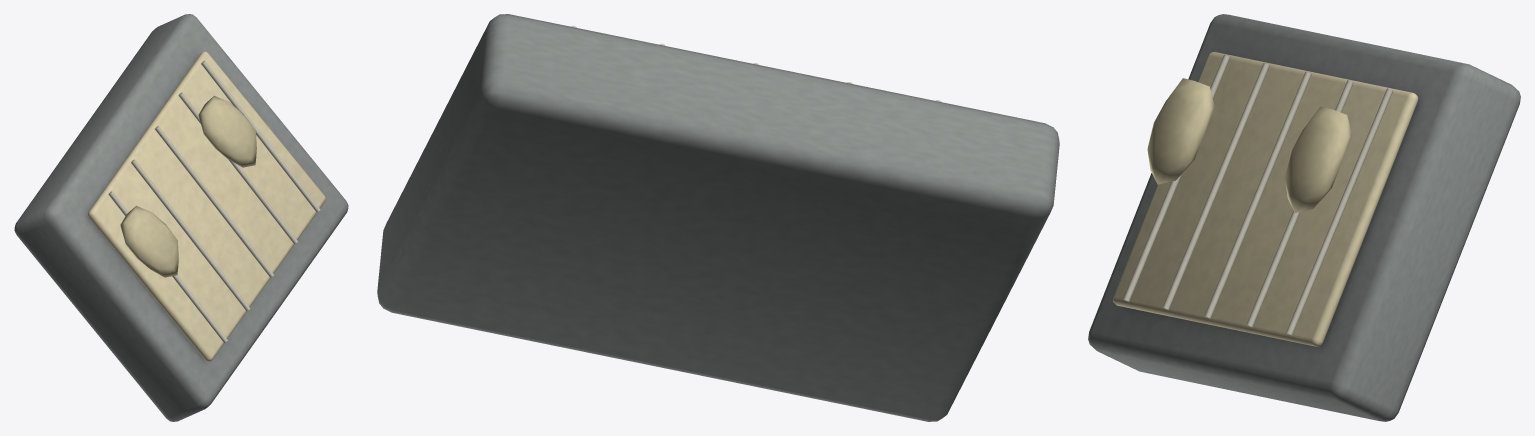
3 views of the same model, side by side, from view 1: azimuth 30°, elevation 25°; view 2: azimuth 150°, elevation 25°; view 3: azimuth 270°, elevation 25° (orthographic). The views are drawn at different scales.
Visible parts, largest first — view 1: Filter carrier; view 2: Filter carrier; view 3: Filter carrier.
Part boxes in pixels (x1,y1,x2,y2): Filter carrier: (14, 14, 348, 421); Filter carrier: (377, 14, 1059, 421); Filter carrier: (1088, 14, 1520, 421).
Size of the model in its own units: 1.32 by 1.01 by 1.01.
Materials: 1 (1 with a texture image).
